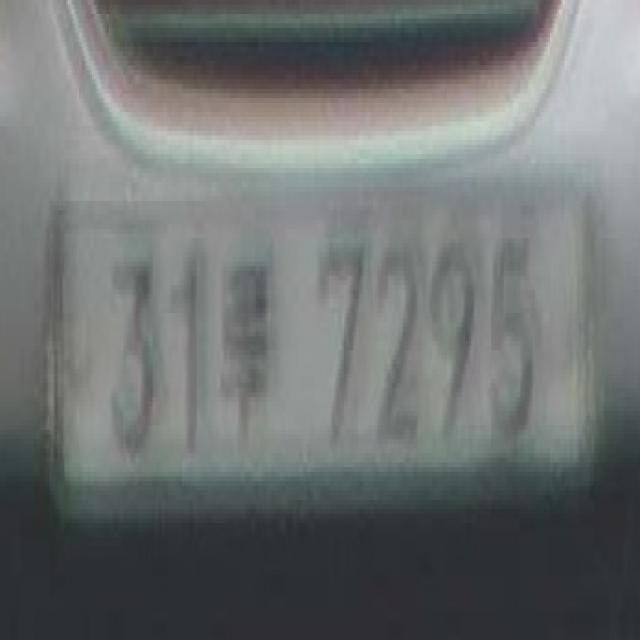1: (165, 234, 208, 472)
2: (370, 234, 423, 453)
3: (107, 243, 158, 458)
5: (484, 238, 533, 434)
7: (314, 238, 366, 430)
9: (427, 243, 476, 434)
license_plate: (48, 182, 596, 491)
lu: (217, 257, 276, 453)
